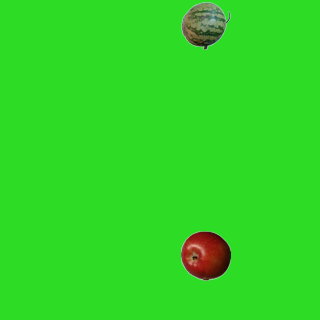Apple Braeburn: (180, 230, 230, 280)
Watermelon: (180, 0, 230, 50)
